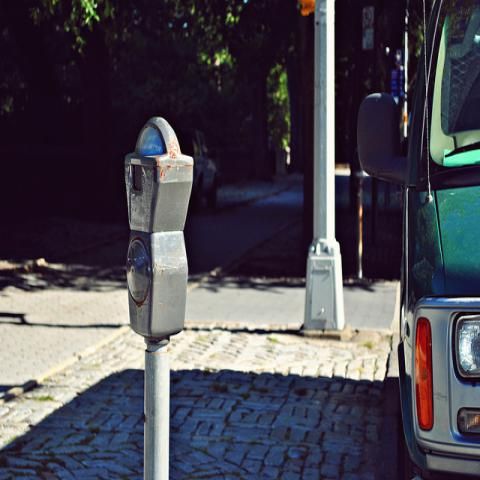car: (357, 1, 479, 475), (174, 128, 217, 213)
